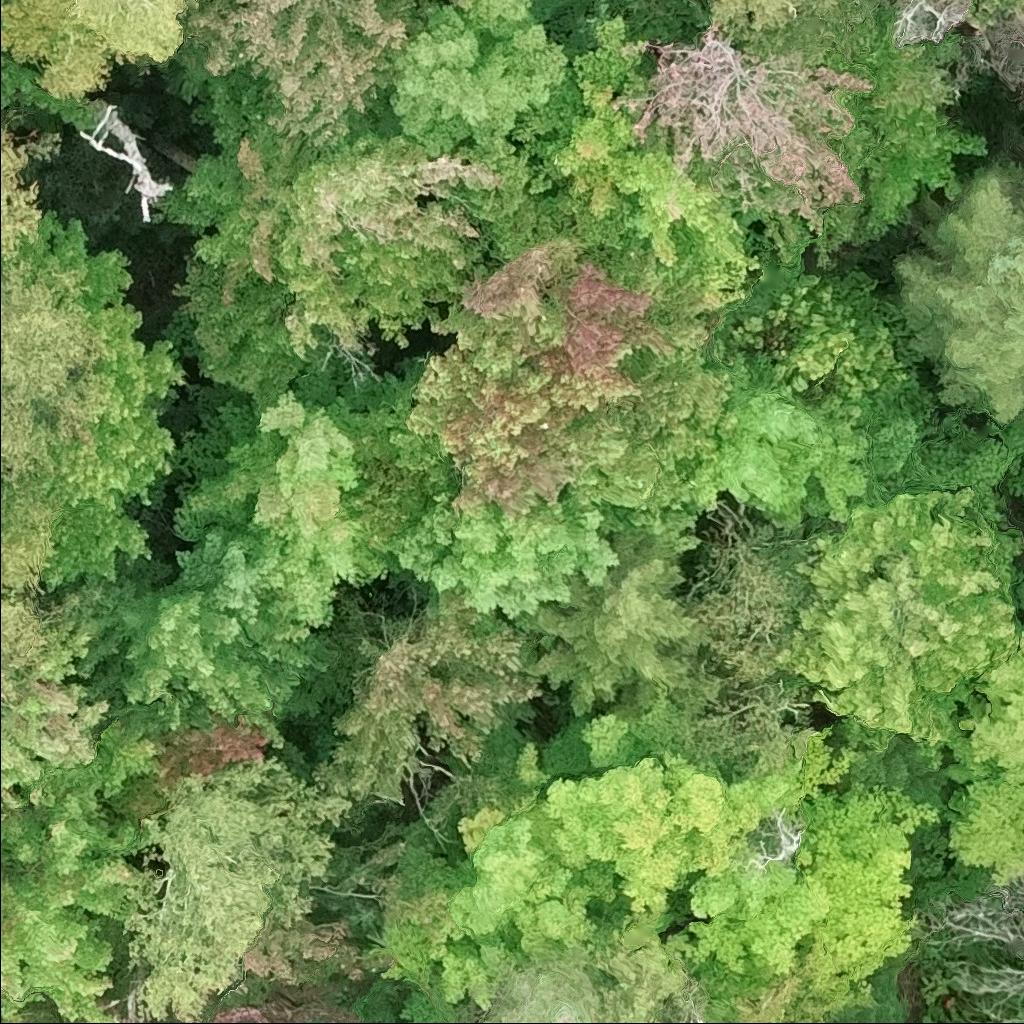crown: (377, 685, 948, 1023), (508, 0, 762, 346), (157, 106, 501, 361), (404, 226, 677, 519), (169, 386, 398, 674), (773, 485, 1023, 748), (607, 20, 874, 260), (21, 209, 186, 595), (117, 757, 352, 1023), (0, 711, 164, 1023), (316, 591, 547, 809), (810, 7, 990, 272), (0, 119, 118, 487), (168, 0, 430, 148), (569, 337, 743, 549), (889, 160, 1023, 433), (517, 530, 709, 719), (689, 383, 921, 528), (114, 575, 304, 747), (721, 268, 923, 425), (384, 488, 622, 621), (0, 619, 111, 811), (941, 630, 1023, 886), (0, 0, 186, 104), (0, 475, 63, 696), (469, 943, 603, 1023), (704, 0, 875, 62), (193, 979, 359, 1023), (891, 0, 970, 45), (101, 999, 172, 1023), (23, 1005, 77, 1023)
